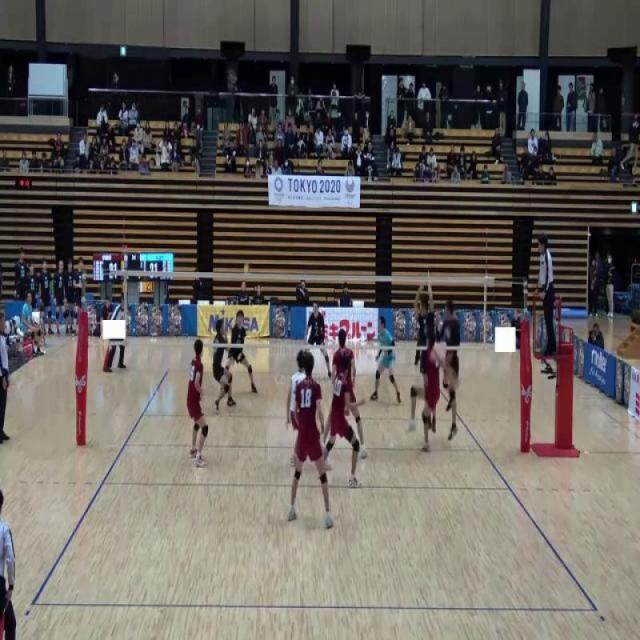volleyball: (243, 263, 250, 274)
